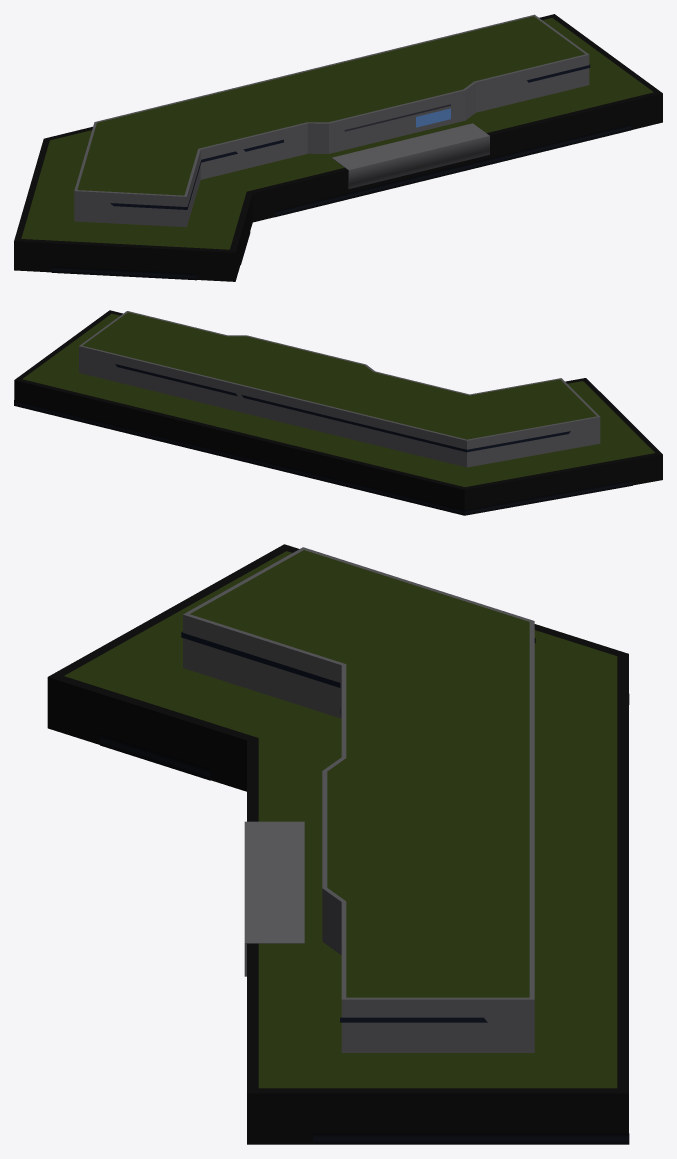
File: W_O_Flowerbed_001_L3.fbx
The picture shows the model from 3 angles, top to bottom: view 1: azimuth 30°, elevation 25°; view 2: azimuth 150°, elevation 25°; view 3: azimuth 270°, elevation 25°; orthographic projection. The views are drawn at different scales.
Visible parts, largest first — view 1: W_O_Flowerbed_001_L3; view 2: W_O_Flowerbed_001_L3; view 3: W_O_Flowerbed_001_L3.
Boxes of the visible parts, left/top/right/bottom form: W_O_Flowerbed_001_L3: left=14, top=14, right=662, bottom=281; W_O_Flowerbed_001_L3: left=14, top=310, right=662, bottom=515; W_O_Flowerbed_001_L3: left=47, top=544, right=629, bottom=1144.
Bounding box in the file's own units: 11.23 × 1 × 5.03.
